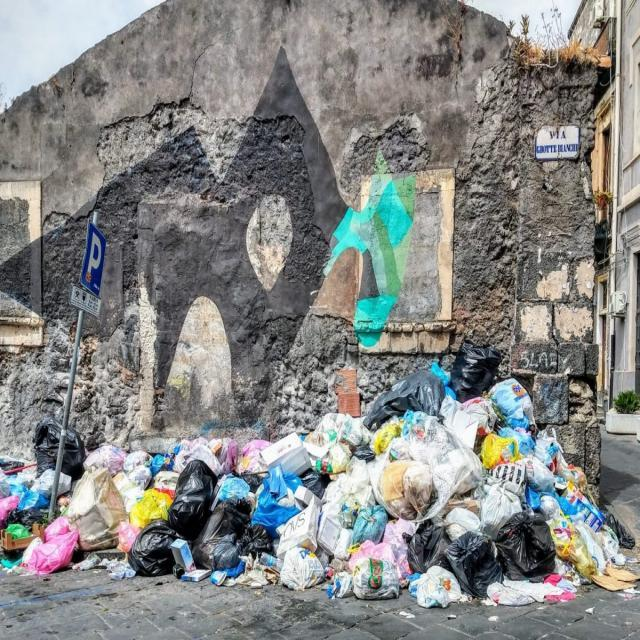garbage: (259, 334, 640, 614), (0, 411, 259, 592)
